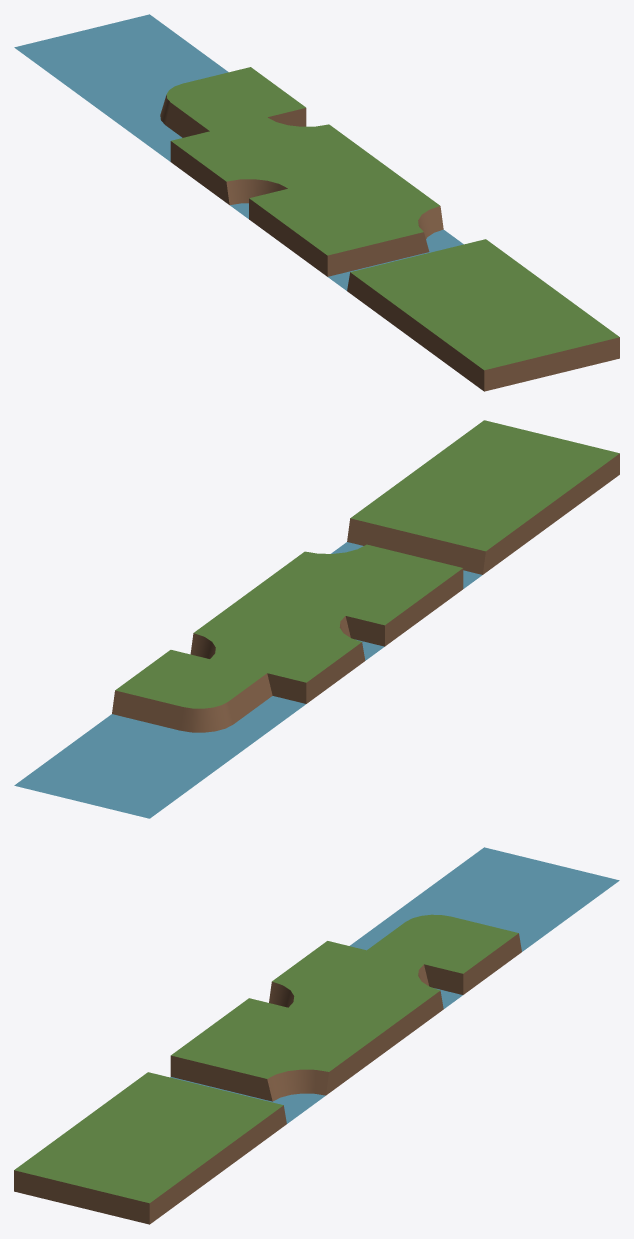
Rendered from terrain.fbx.
3 renders of one model, top to bottom at view 1: azimuth 30°, elevation 25°; view 2: azimuth 150°, elevation 25°; view 3: azimuth 330°, elevation 25°, orthographic.
Parts seen in each view (by area): view 1: terrain_land, terrain_water_corner, terrain_land_corner_double, terrain_water, terrain_land_corner, terrain_land_edge; view 2: terrain_land_corner, terrain_water_corner, terrain_land_edge, terrain_land, terrain_land_corner_double, terrain_water; view 3: terrain_water_corner, terrain_land, terrain_land_corner_double, terrain_water, terrain_land_edge, terrain_land_corner.
Boxes of the visible parts, x1,y1,x2,y2 form: terrain_land: [406, 280, 619, 391]; terrain_water_corner: [249, 165, 462, 276]; terrain_land_corner_double: [170, 117, 384, 218]; terrain_water: [14, 14, 227, 104]; terrain_land_corner: [92, 67, 306, 161]; terrain_land_edge: [328, 239, 541, 333]; terrain_land_corner: [93, 650, 305, 761]; terrain_water_corner: [249, 544, 463, 646]; terrain_land_edge: [331, 477, 541, 588]; terrain_land: [406, 420, 619, 531]; terrain_land_corner_double: [190, 592, 384, 703]; terrain_water: [14, 728, 227, 818]; terrain_water_corner: [170, 998, 384, 1109]; terrain_land: [14, 1113, 227, 1224]; terrain_land_corner_double: [269, 941, 462, 1051]; terrain_water: [406, 847, 619, 937]; terrain_land_edge: [92, 1072, 305, 1166]; terrain_land_corner: [350, 905, 541, 994].
Size of the model in its own units: 1 by 0.15 by 6.
2 materials, 2 textured.
